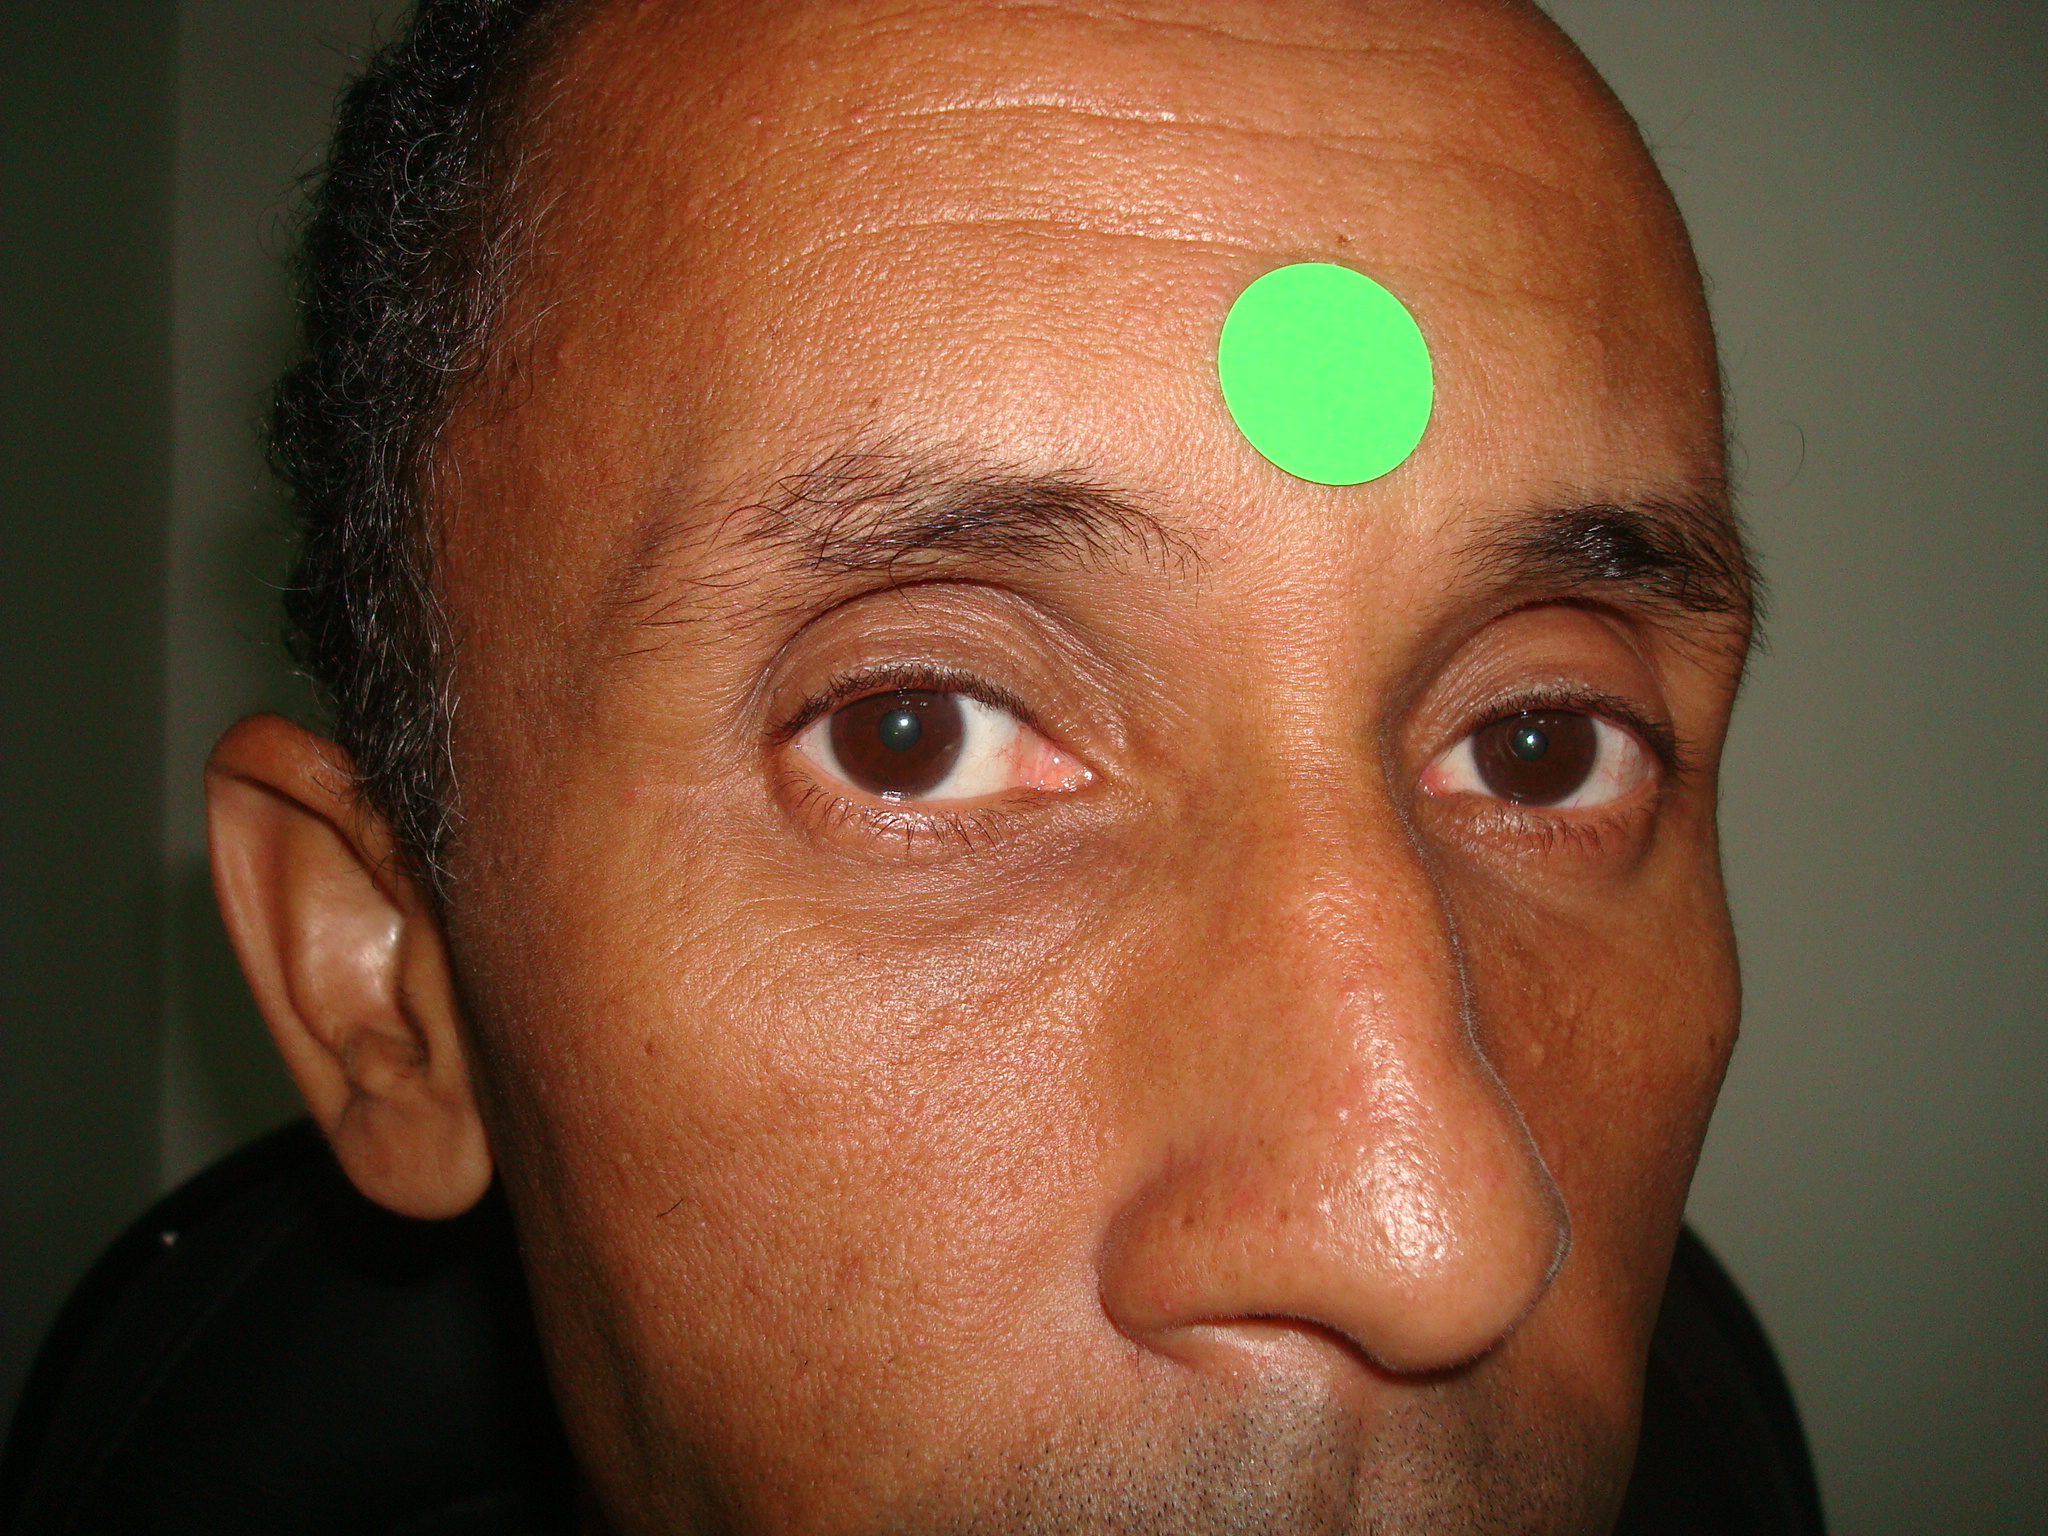flash: (897, 715, 913, 729), (1526, 731, 1537, 747)
limbo: (832, 673, 966, 794), (1471, 686, 1590, 803)
